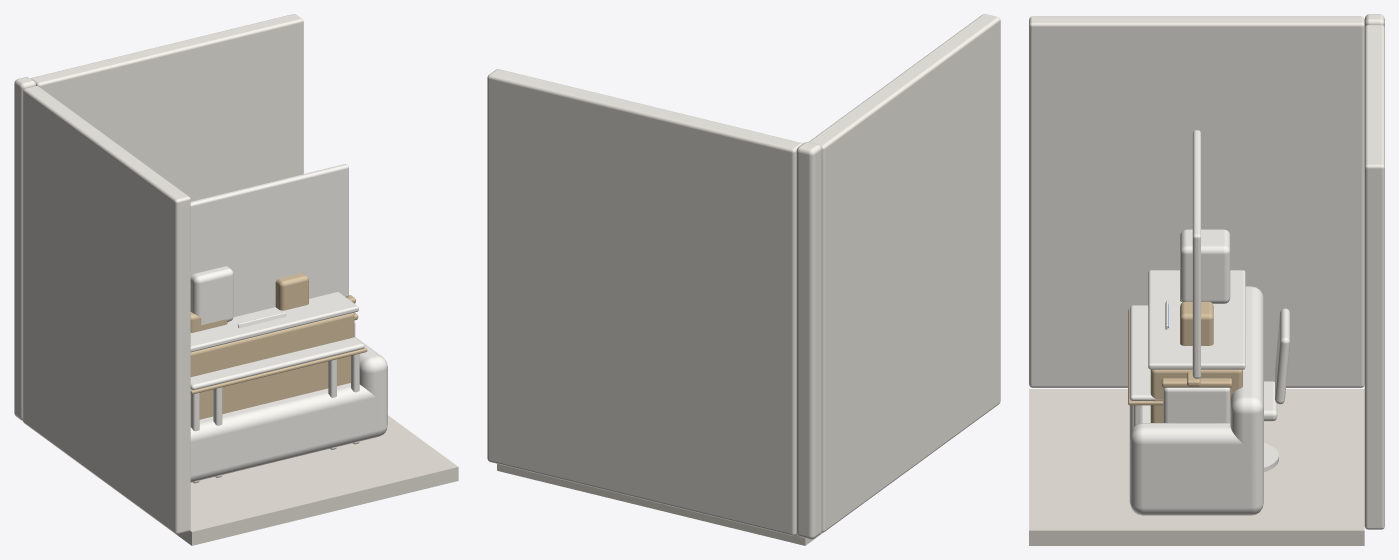
File: office-kit.glb
3 views of the same model, side by side, from view 1: azimuth 30°, elevation 25°; view 2: azimuth 150°, elevation 25°; view 3: azimuth 270°, elevation 25° (orthographic). The views are drawn at different scales.
Visible parts, largest first — view 1: room.wall_left, room.wall_back, prop.whiteboard, room.floor_tile, prop.coffee_bar, prop.sofa, room.corner, desk.chief, desk.set, prop.shelf; view 2: room.wall_back, room.wall_left, room.corner, room.floor_tile; view 3: room.wall_left, room.floor_tile, prop.sofa, prop.coffee_bar, room.wall_back, prop.shelf, desk.chief, prop.whiteboard, desk.set.
Part boxes in pixels (x1,y1,x2,y2): room.wall_left: (23,86,190,534); room.wall_back: (31,14,303,201); prop.whiteboard: (190,164,355,317); room.floor_tile: (176,415,458,545); prop.coffee_bar: (190,266,358,419); prop.sofa: (190,337,387,482); room.corner: (14,77,36,420); desk.chief: (190,312,367,483); desk.set: (208,312,343,477); prop.shelf: (190,273,358,337); room.wall_back: (487,69,802,535); room.wall_left: (809,14,1000,532); room.corner: (796,142,821,539); room.floor_tile: (497,464,823,545); room.wall_left: (1029,16,1364,387); room.floor_tile: (1029,389,1364,545); prop.sofa: (1129,286,1263,515); prop.coffee_bar: (1148,229,1245,422); room.wall_back: (1364,25,1384,529); prop.shelf: (1161,297,1232,422); desk.chief: (1128,300,1289,471); prop.whiteboard: (1187,130,1200,386); desk.set: (1128,300,1289,469).
Size of the model in its own units: 2.12 by 2.52 by 2.12.
